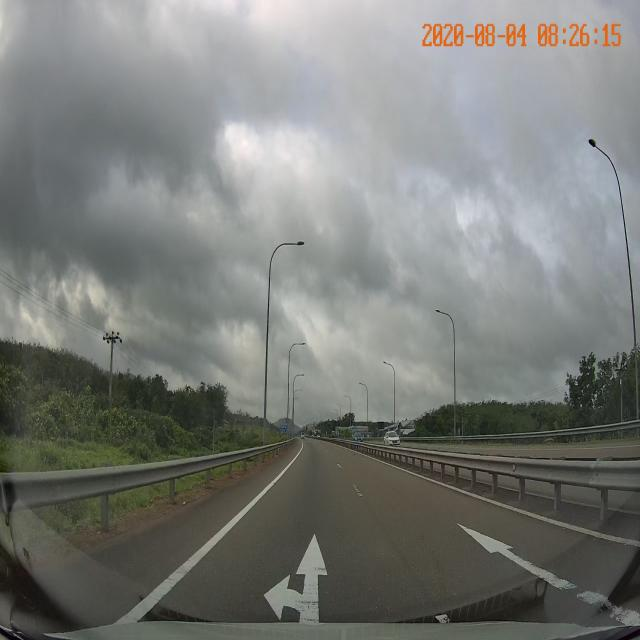Strelka vpered: (450, 519, 639, 625)
Strelka vpered - vlevo: (261, 529, 331, 623)
